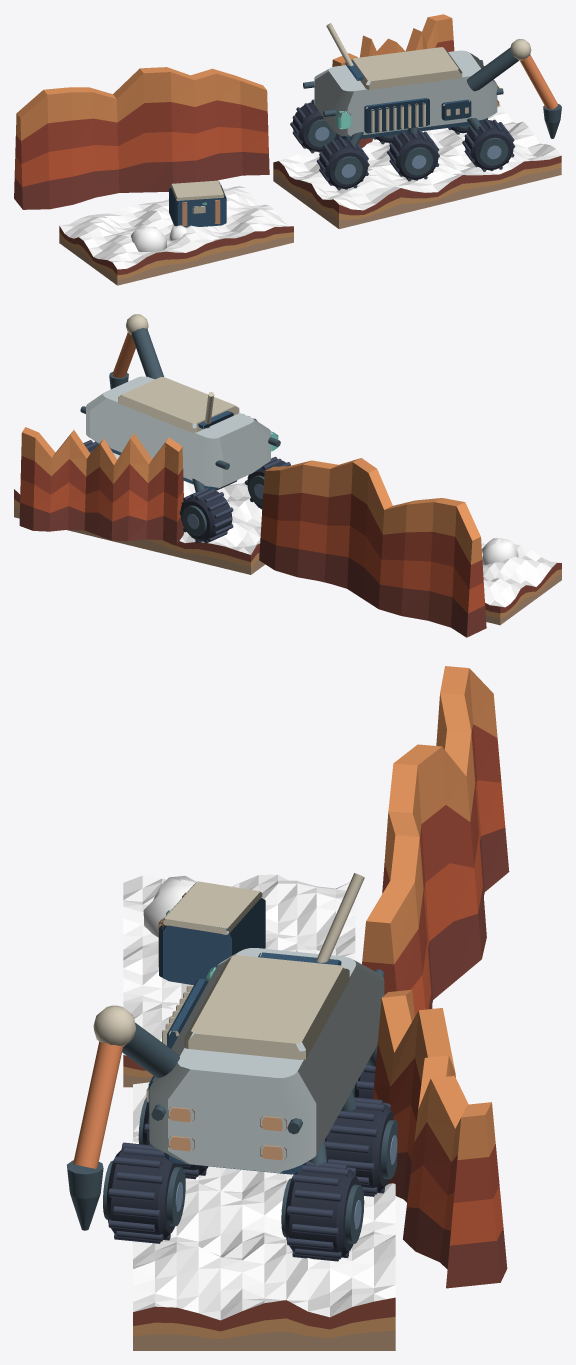
The model's file is marte-cantera.obj.
3 views of the same model, one above another, from view 1: azimuth 30°, elevation 25°; view 2: azimuth 150°, elevation 25°; view 3: azimuth 270°, elevation 25° (orthographic). The views are drawn at different scales.
Parts seen in each view (by area): view 1: marte-cantera; view 2: marte-cantera; view 3: marte-cantera.
Boxes of the visible parts, x1,y1,x2,y2 form: marte-cantera: [14, 14, 561, 285]; marte-cantera: [14, 314, 561, 637]; marte-cantera: [67, 666, 509, 1350].
Bounding box in the file's own units: 1.69 × 0.5391 × 0.7058.
